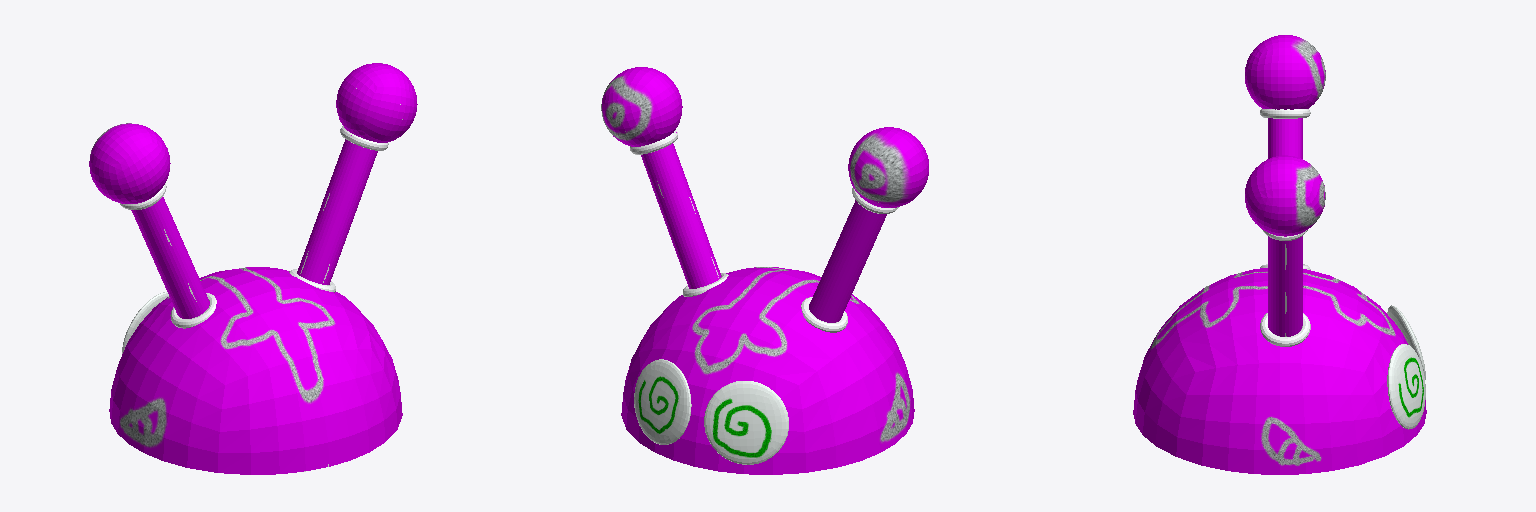
3 views of the same model, side by side, from view 1: azimuth 30°, elevation 25°; view 2: azimuth 150°, elevation 25°; view 3: azimuth 270°, elevation 25° (orthographic).
Visible parts, largest first — view 1: Roundcube.014; view 2: Roundcube.014; view 3: Roundcube.014.
Part boxes in pixels (bbox=[...]): Roundcube.014: bbox=[89, 63, 417, 474]; Roundcube.014: bbox=[601, 67, 928, 474]; Roundcube.014: bbox=[1133, 35, 1426, 474].
Size of the model in its own units: 2.5 by 2.36 by 2.
Materials: 1 (1 with a texture image).